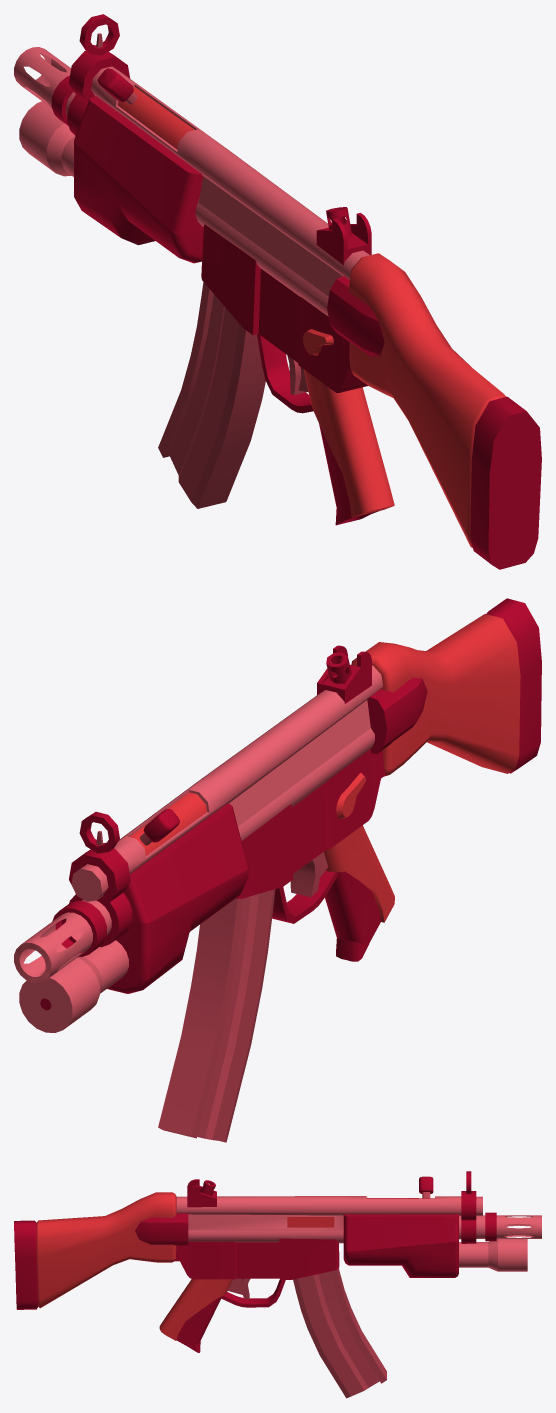
Rendered from SM_Toy_Submachine.fbx.
3 views of the same model, one above another, from view 1: azimuth 30°, elevation 25°; view 2: azimuth 150°, elevation 25°; view 3: azimuth 270°, elevation 25° (orthographic). The views are drawn at different scales.
Visible parts, largest first — view 1: SM_Toy_Submachine; view 2: SM_Toy_Submachine; view 3: SM_Toy_Submachine.
Part boxes in pixels (x1=…): SM_Toy_Submachine: x1=14, y1=14, x2=541, y2=569; SM_Toy_Submachine: x1=14, y1=598, x2=541, y2=1142; SM_Toy_Submachine: x1=14, y1=1171, x2=541, y2=1398.
Bounding box in the file's own units: 56.08 × 285 × 615.
